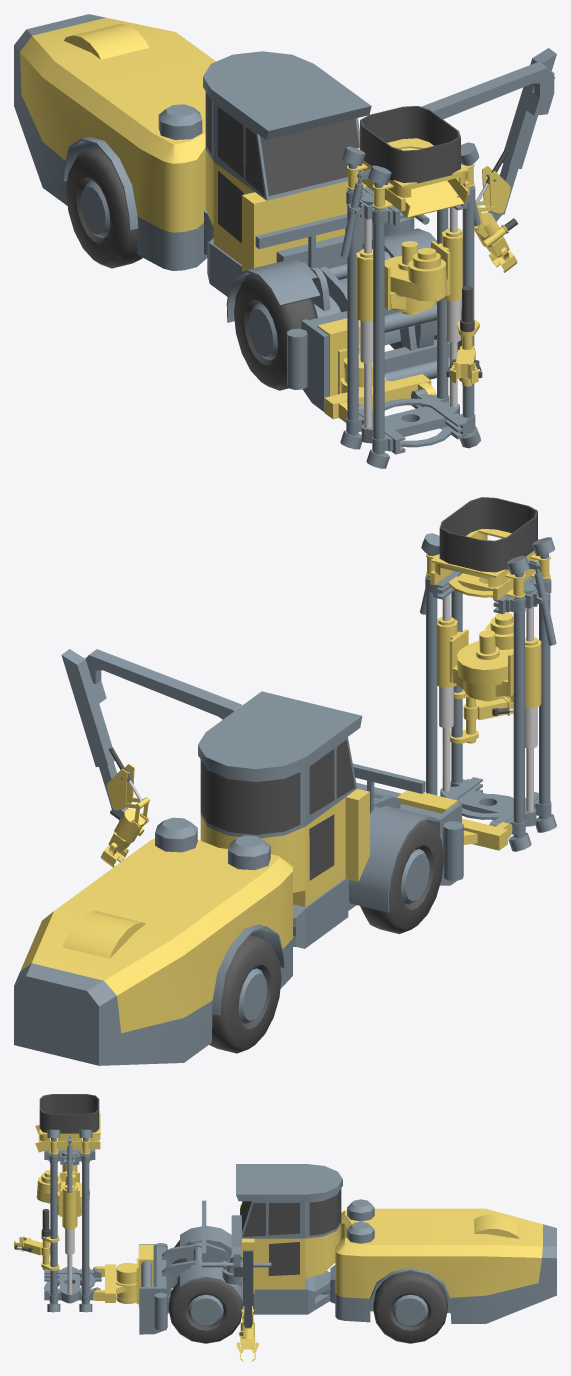
File: Low poly easer.fbx
The picture shows the model from 3 angles, top to bottom: view 1: azimuth 30°, elevation 25°; view 2: azimuth 150°, elevation 25°; view 3: azimuth 270°, elevation 25°; orthographic projection. The views are drawn at different scales.
Visible parts, largest first — view 1: Easer_carrier, Cube.002, Easer_mount, Cylinder.005, Cube.003, Cylinder.003, Arm, Cylinder; view 2: Easer_carrier, Cube.002, Cylinder.005, Cylinder.003, Easer_mount, Cube.003, Cylinder; view 3: Easer_carrier, Cube.002, Easer_mount, Cube.003, Cylinder.005, Cylinder, Arm, Cylinder.003.
Part boxes in pixels (bbox=[...]): Easer_carrier: bbox=[14, 14, 436, 390]; Cube.002: bbox=[340, 106, 480, 468]; Easer_mount: bbox=[255, 214, 461, 411]; Cylinder.005: bbox=[474, 48, 556, 272]; Cube.003: bbox=[317, 318, 436, 422]; Cylinder.003: bbox=[421, 62, 554, 119]; Arm: bbox=[276, 214, 429, 267]; Cylinder: bbox=[446, 286, 482, 386]; Easer_carrier: bbox=[14, 691, 463, 1065]; Cube.002: bbox=[420, 497, 556, 851]; Cylinder.005: bbox=[61, 649, 149, 867]; Cylinder.003: bbox=[85, 649, 241, 719]; Easer_mount: bbox=[352, 763, 461, 885]; Cube.003: bbox=[396, 790, 512, 850]; Cylinder: bbox=[450, 689, 513, 743]; Easer_carrier: bbox=[154, 1164, 556, 1343]; Cube.002: bbox=[35, 1094, 101, 1312]; Easer_mount: bbox=[139, 1200, 206, 1334]; Cube.003: bbox=[92, 1244, 153, 1306]; Cylinder.005: bbox=[233, 1250, 258, 1361]; Cylinder: bbox=[14, 1209, 59, 1270]; Arm: bbox=[202, 1255, 271, 1286]; Cylinder.003: bbox=[231, 1215, 241, 1258].
Bounding box in the file's own units: 4.98 × 4.42 × 10.71.
